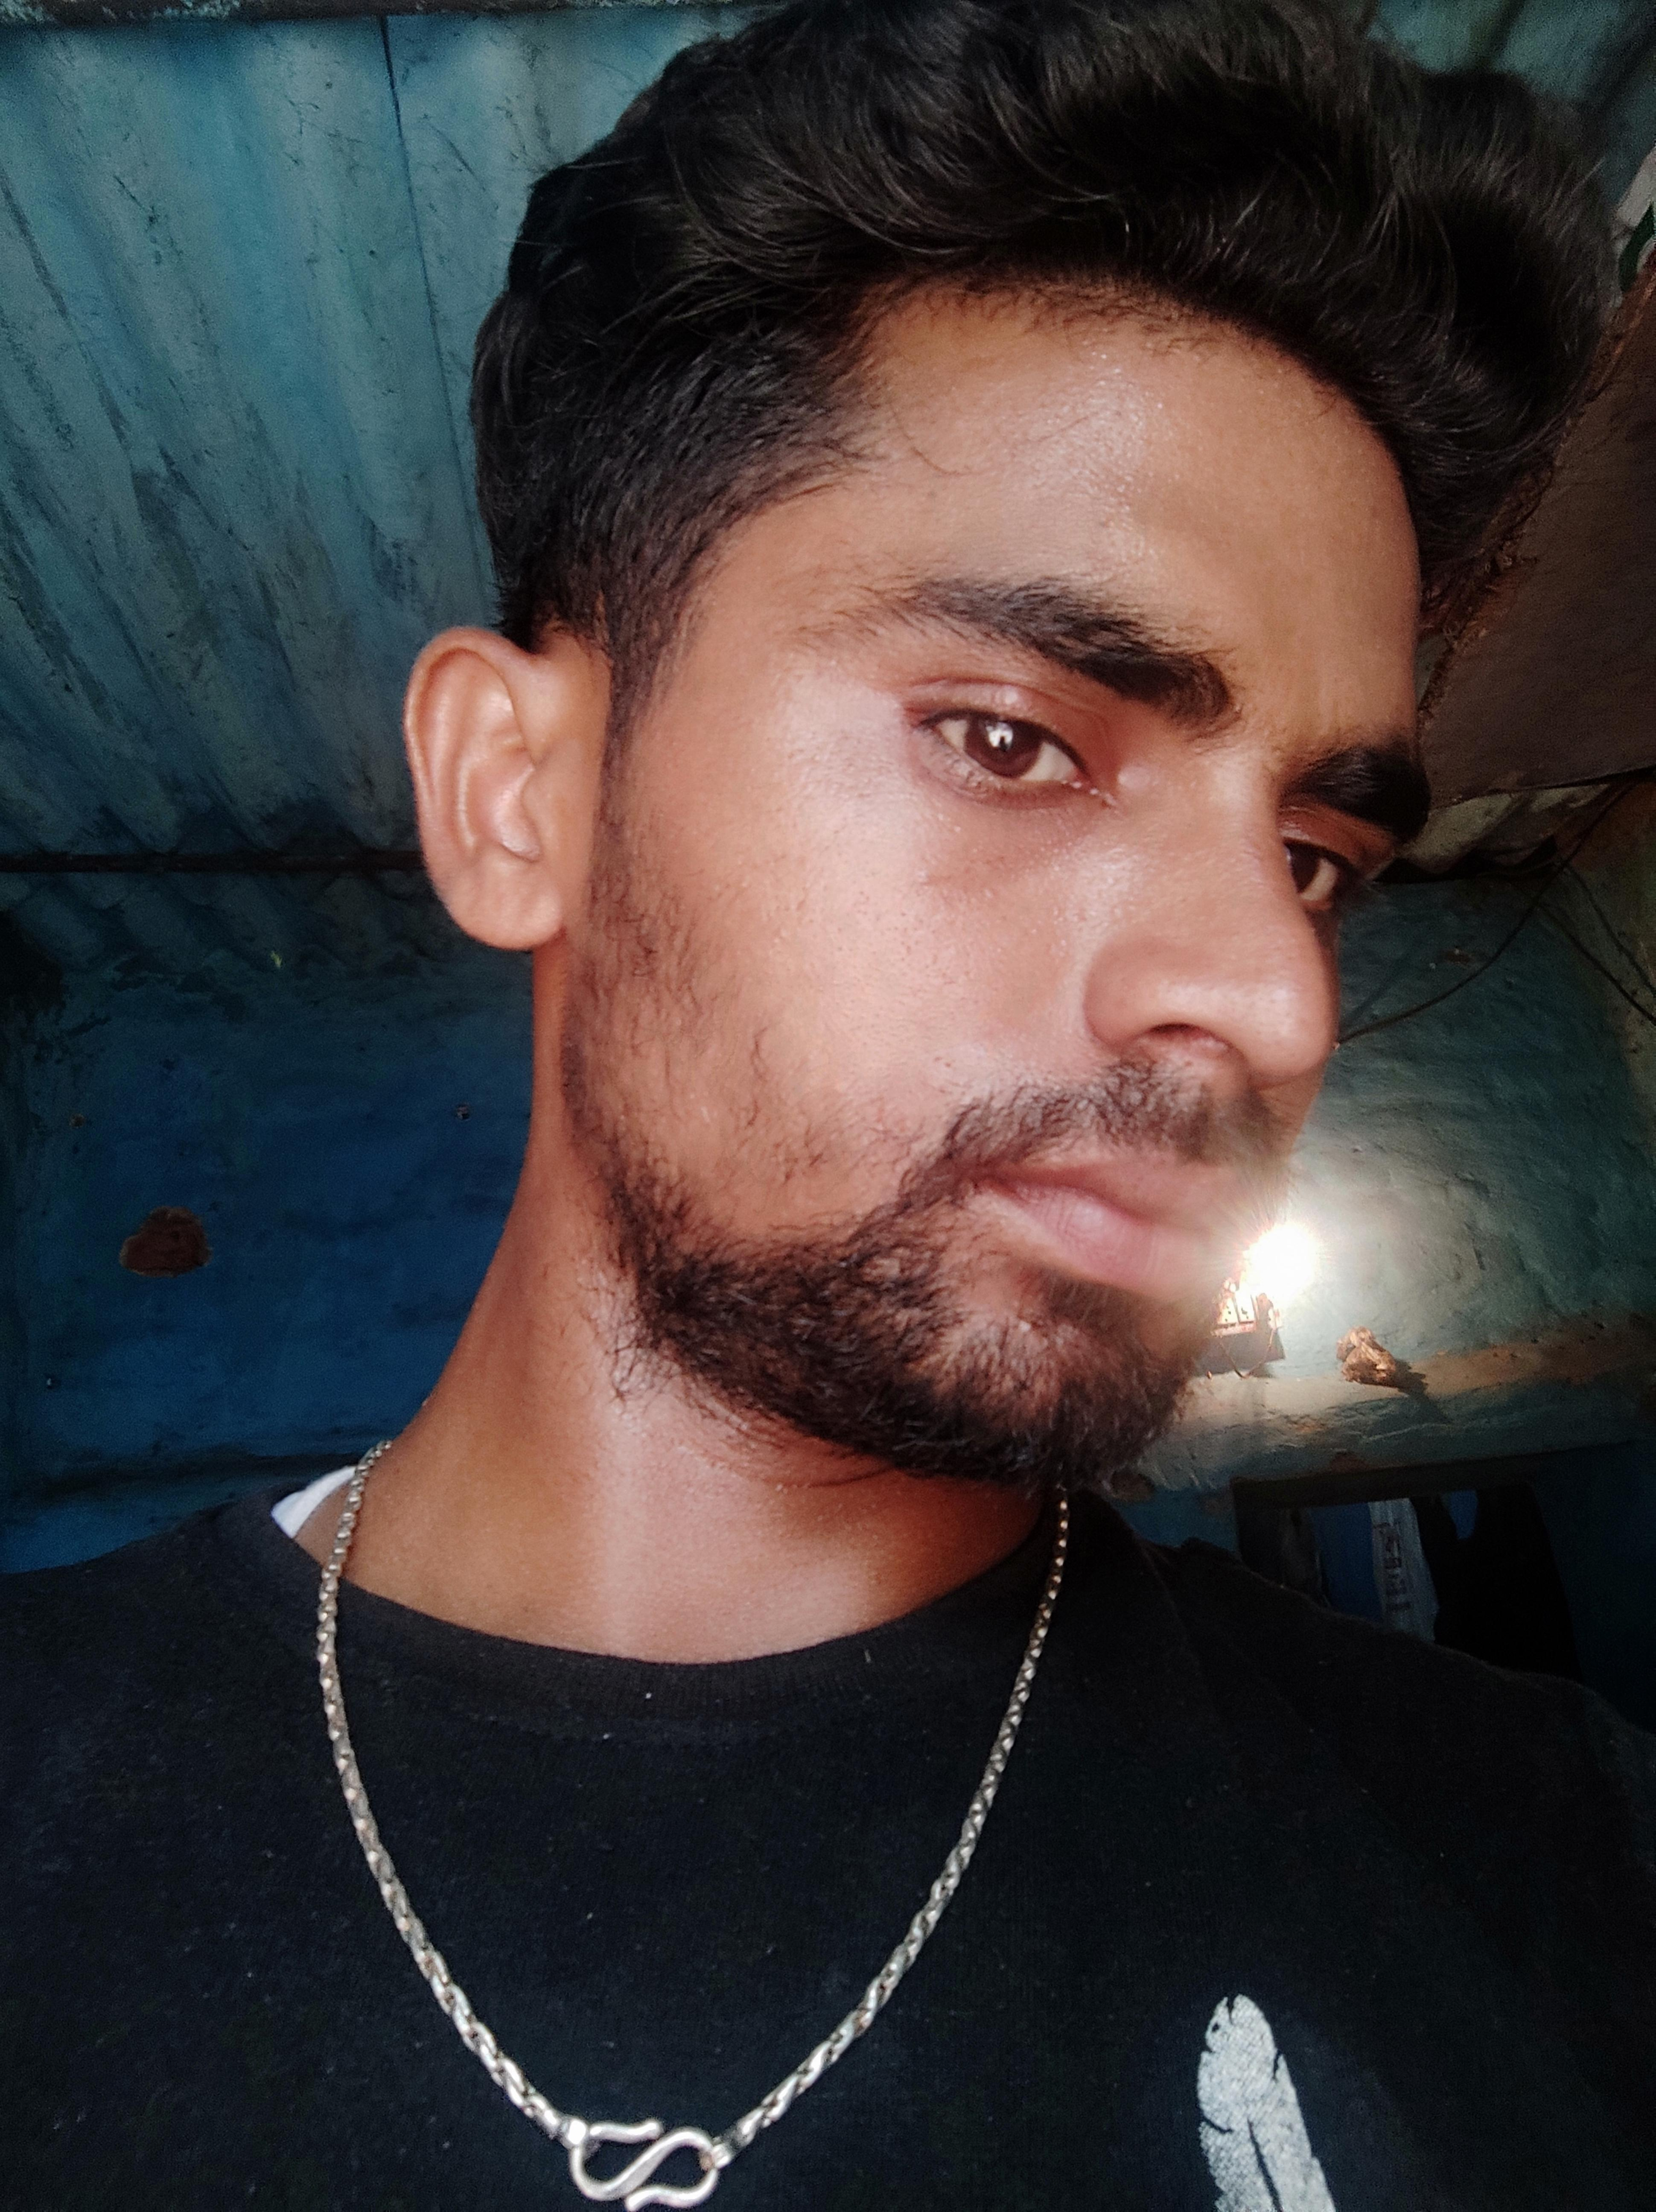Acne: (908, 869, 979, 930), (1085, 348, 1139, 393), (1054, 882, 1085, 941), (1160, 396, 1178, 423)
